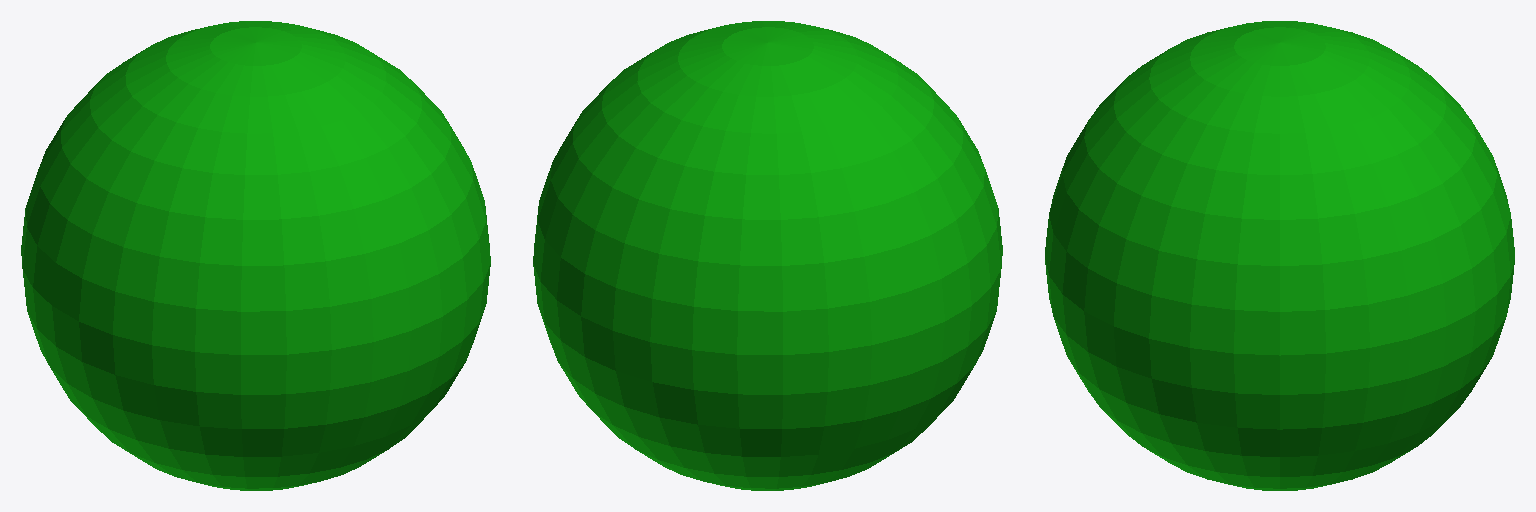
The model's file is sun.obj.
The picture shows the model from 3 angles: view 1: azimuth 30°, elevation 25°; view 2: azimuth 150°, elevation 25°; view 3: azimuth 270°, elevation 25°; orthographic projection.
Parts seen in each view (by area): view 1: Sphere001; view 2: Sphere001; view 3: Sphere001.
Part boxes in pixels (x1,y1,x2,y2): Sphere001: (21, 21, 490, 490); Sphere001: (533, 21, 1002, 490); Sphere001: (1045, 21, 1514, 490).
Bounding box in the file's own units: 2 × 2 × 2.